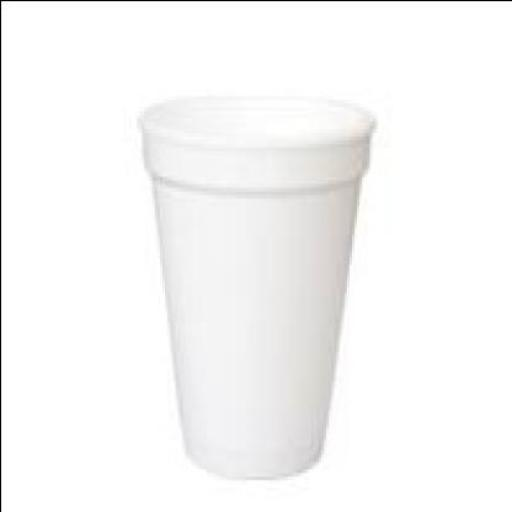paper: (142, 88, 376, 476)
